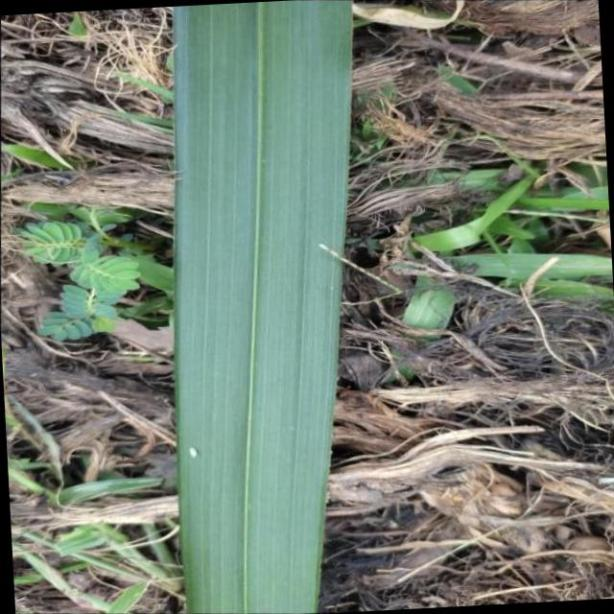Healthy: (171, 0, 357, 614)
